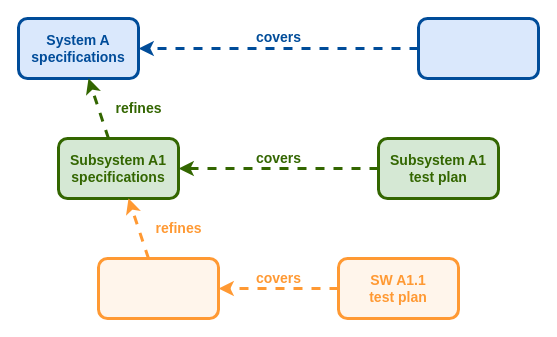
The diagram is 557 pixels wide and 337 high, and some of its shapes have lost their labels. Here are the shapes that lost their labels. From the top down, the centre of each, then its label:
the point at 478,48: System A2 test plan
the point at 158,288: SW A1.1 specifications
